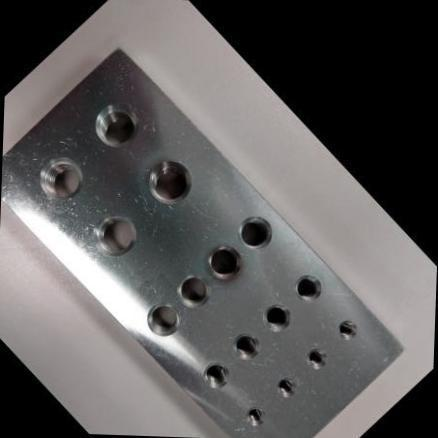hole: (28, 144, 94, 210), (138, 148, 202, 214), (82, 202, 146, 266), (84, 92, 148, 156), (198, 234, 250, 286), (228, 205, 280, 256), (138, 292, 188, 343), (168, 263, 218, 314), (225, 323, 266, 364), (256, 295, 297, 336), (287, 266, 327, 306), (196, 354, 235, 392), (239, 399, 270, 430), (301, 341, 332, 372), (270, 371, 300, 400), (332, 313, 362, 342)
